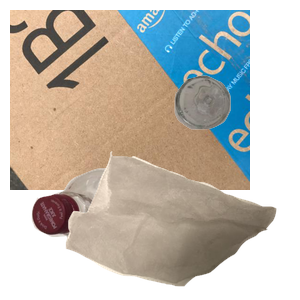cardboard: (10, 10, 250, 190)
glass: (172, 73, 300, 195)
plastic: (29, 166, 183, 300)
trash: (63, 149, 300, 300)
